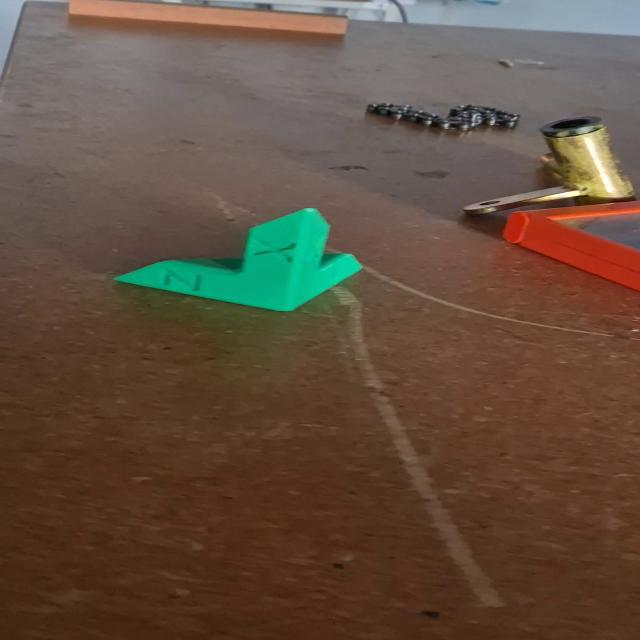objects: (110, 206, 366, 312)
